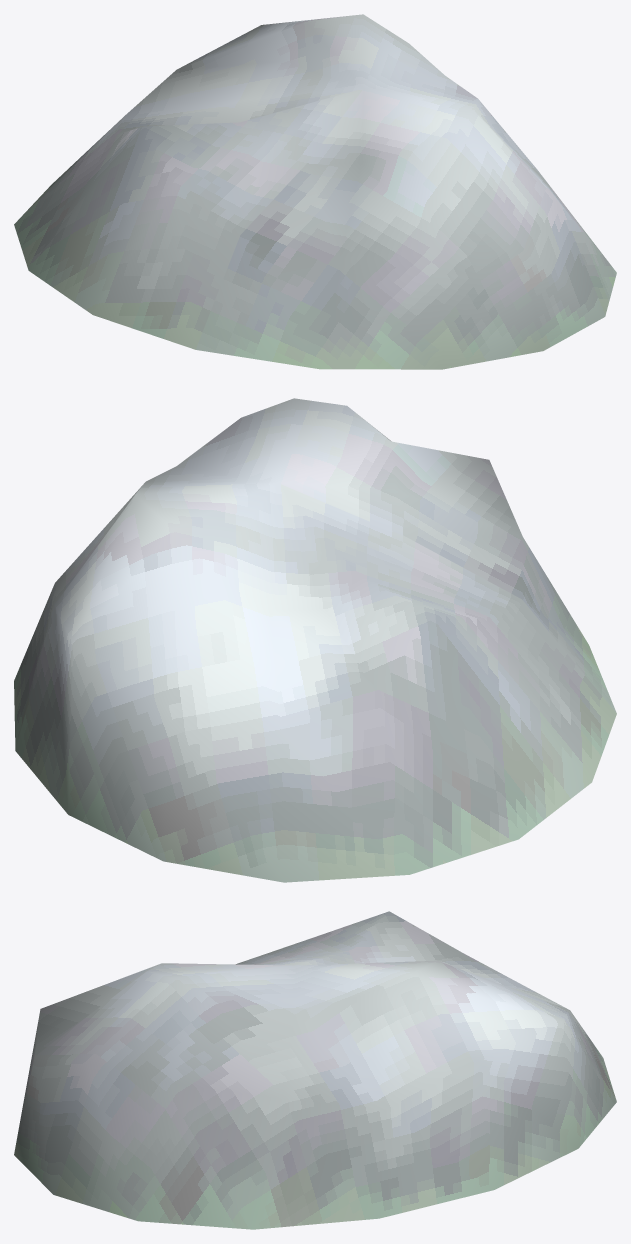
Rendered from TROLLHOLE02_STONEA03.fbx.
3 renders of one model, top to bottom at view 1: azimuth 30°, elevation 25°; view 2: azimuth 150°, elevation 25°; view 3: azimuth 270°, elevation 25°, orthographic. The views are drawn at different scales.
Visible parts, largest first — view 1: TROLLHOLE02_STONEA03; view 2: TROLLHOLE02_STONEA03; view 3: TROLLHOLE02_STONEA03.
Boxes of the visible parts, x1=… form: TROLLHOLE02_STONEA03: x1=14, y1=14, x2=616, y2=369; TROLLHOLE02_STONEA03: x1=14, y1=398, x2=616, y2=882; TROLLHOLE02_STONEA03: x1=14, y1=911, x2=616, y2=1229.
Bounding box in the file's own units: 8994 × 3541 × 10256.
1 material, 1 textured.
